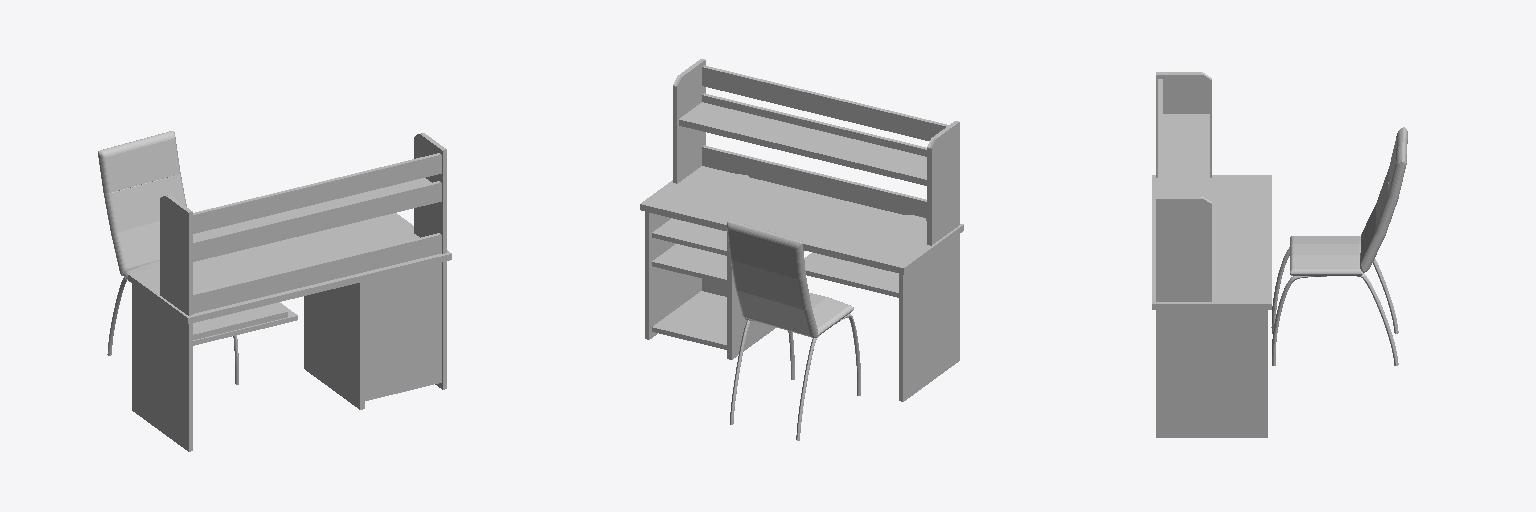
Rendered from desk01.obj.
3 views of the same model, side by side, from view 1: azimuth 30°, elevation 25°; view 2: azimuth 150°, elevation 25°; view 3: azimuth 270°, elevation 25° (orthographic).
Parts seen in each view (by area): view 1: pCube9_Untitled.018; view 2: pCube9_Untitled.018; view 3: pCube9_Untitled.018.
Part boxes in pixels (x1,y1,x2,y2): pCube9_Untitled.018: (98,131,451,451); pCube9_Untitled.018: (640,59,963,440); pCube9_Untitled.018: (1152,72,1407,437).
Size of the model in its own units: 2.08 by 1.81 by 1.74.